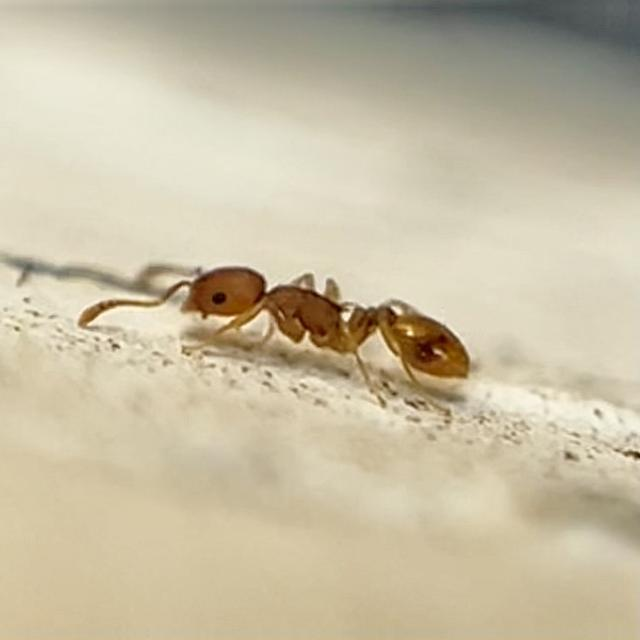Temnothorax: (131, 232, 495, 404)
